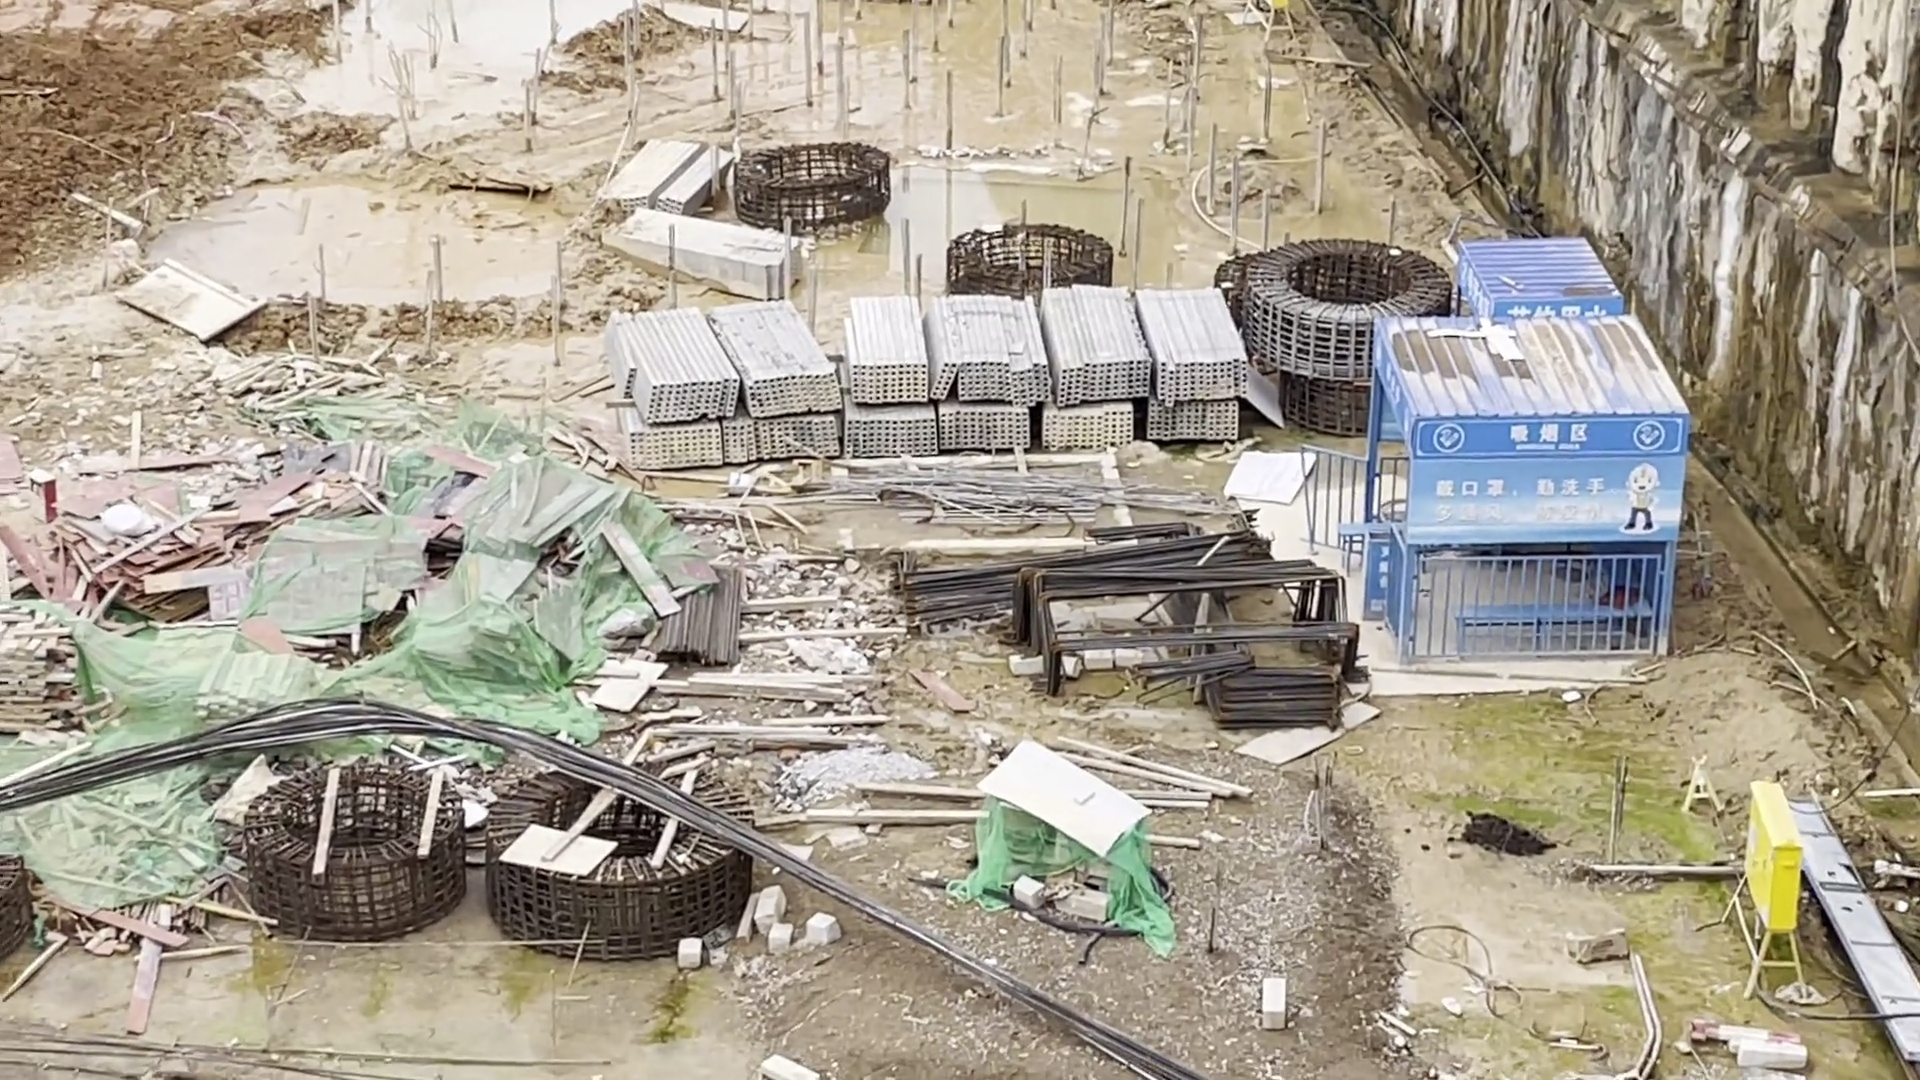ebox: (1710, 778, 1811, 1011)
slogan: (1425, 472, 1614, 524)
